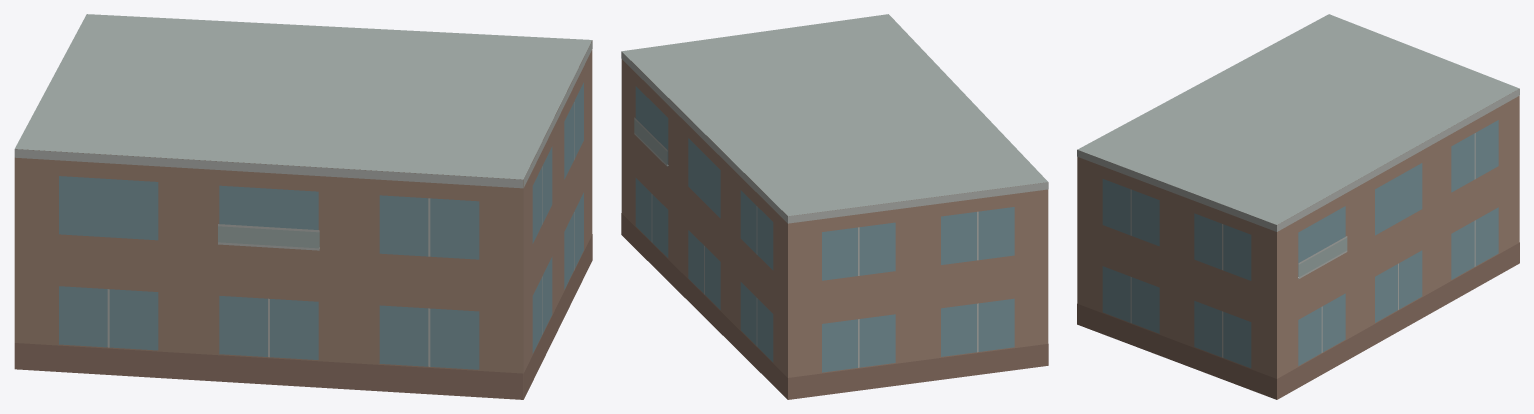
The model's file is survey-upis-32777469.glb.
3 views of the same model, side by side, from view 1: azimuth 30°, elevation 25°; view 2: azimuth 150°, elevation 25°; view 3: azimuth 270°, elevation 25° (orthographic). The views are drawn at different scales.
Visible parts, largest first — view 1: survey-upis-32777469.tmp; view 2: survey-upis-32777469.tmp; view 3: survey-upis-32777469.tmp.
Boxes of the visible parts, x1,y1,x2,y2 form: survey-upis-32777469.tmp: (14, 14, 592, 399); survey-upis-32777469.tmp: (621, 14, 1048, 399); survey-upis-32777469.tmp: (1077, 14, 1519, 399).
Bounding box in the file's own units: 15.8 × 6.1 × 14.
